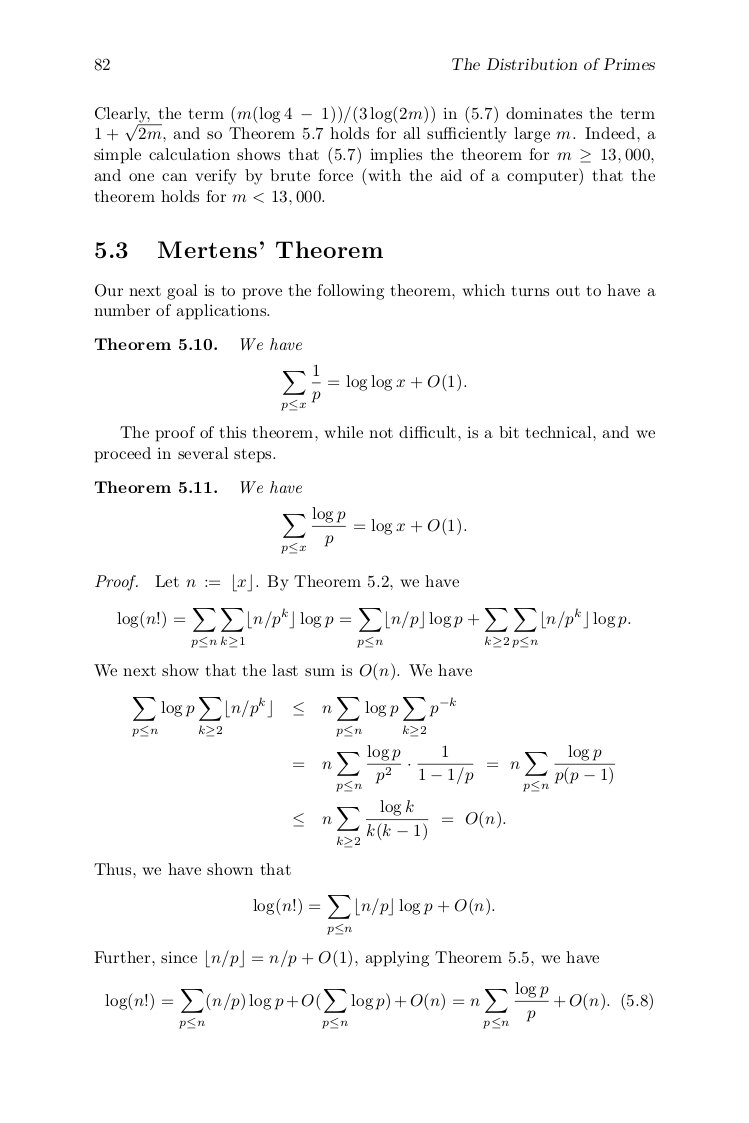formula: (105, 981, 652, 1029), (117, 608, 630, 647), (293, 744, 615, 792), (132, 697, 455, 736), (293, 799, 505, 848), (253, 895, 494, 934), (281, 505, 466, 554), (281, 363, 466, 411)
